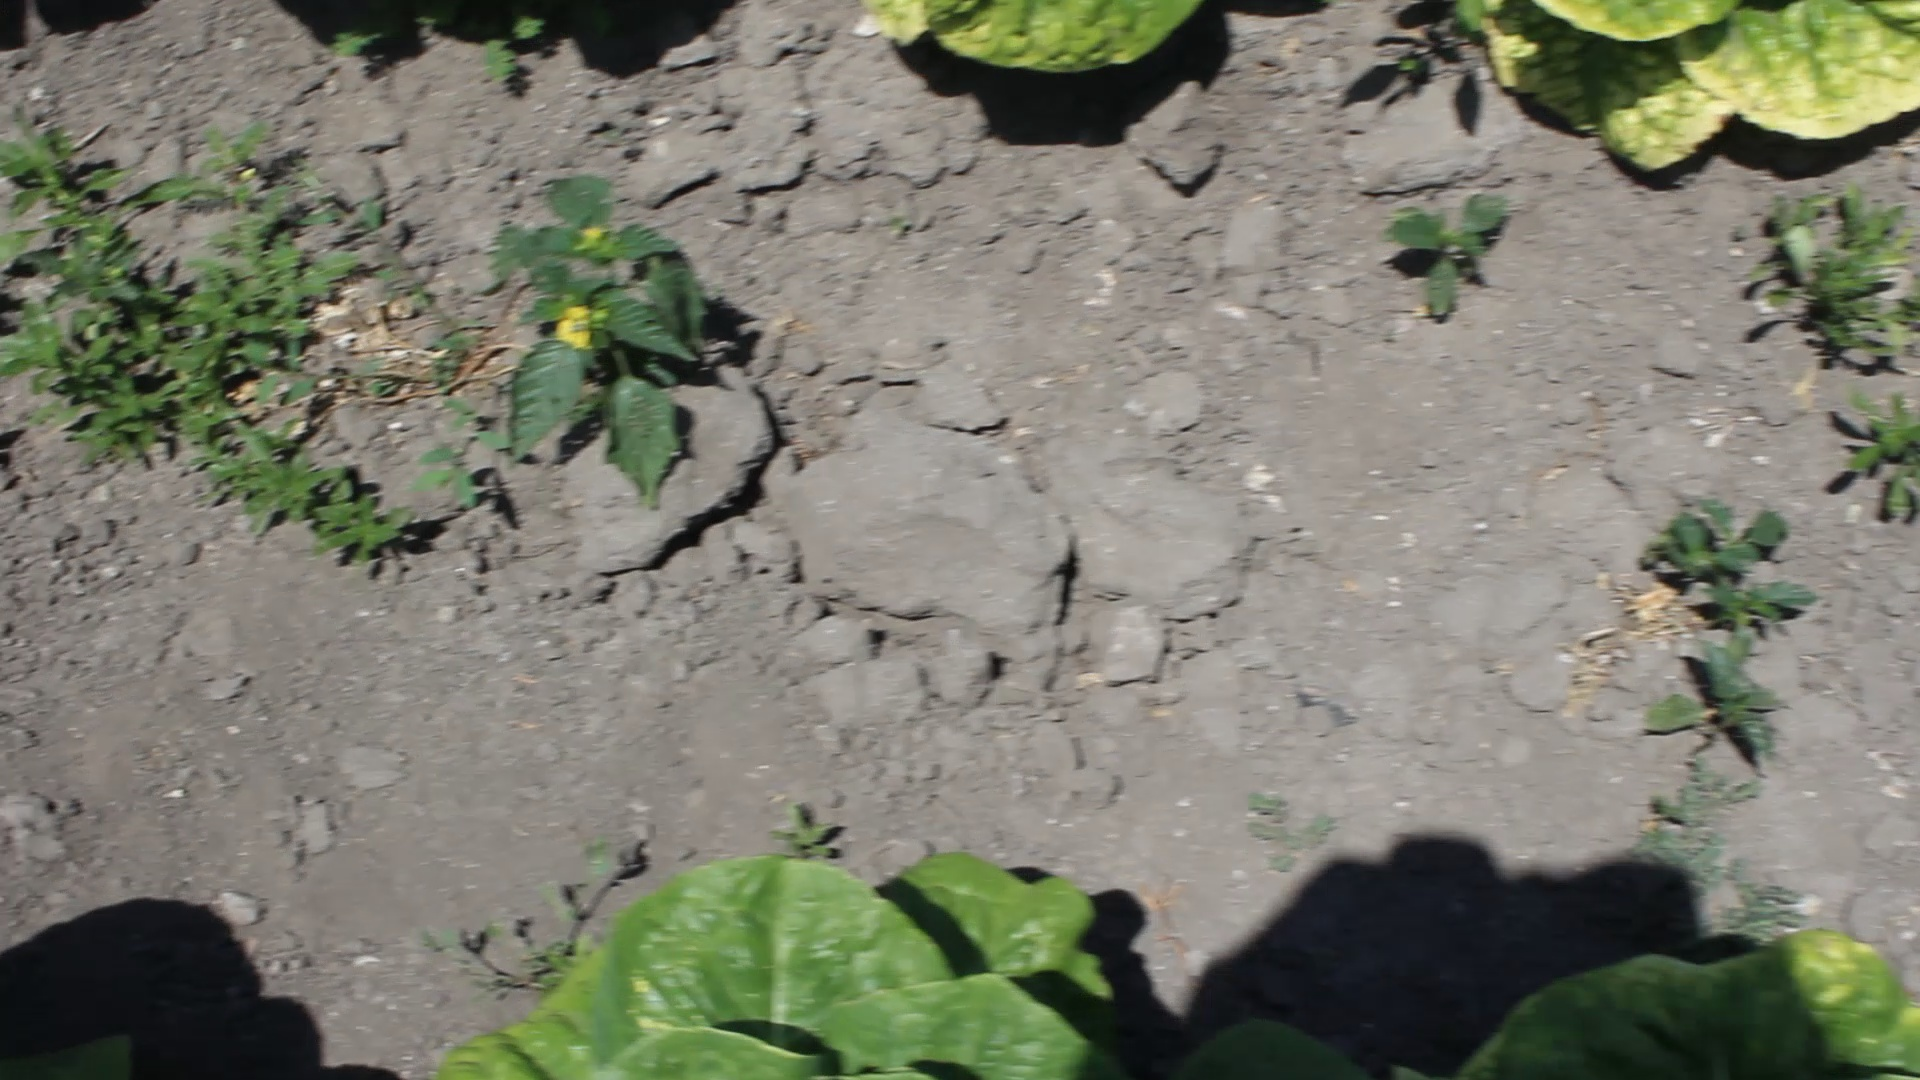Weed: (13, 137, 394, 551), (491, 164, 690, 514), (1619, 491, 1797, 757), (1741, 193, 1920, 384), (1596, 778, 1815, 926), (435, 851, 622, 967), (1381, 194, 1515, 322), (1818, 397, 1919, 529), (778, 803, 848, 857)
